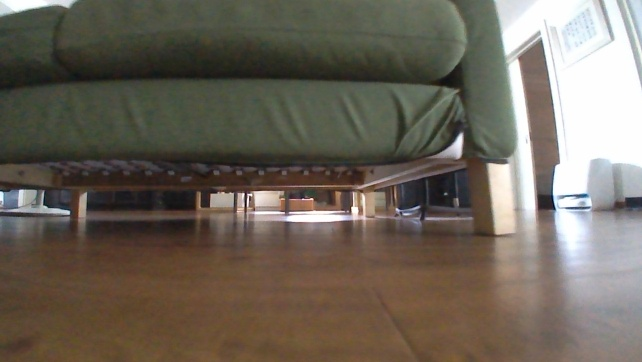chair_base: (0, 199, 72, 219)
sofa1: (0, 0, 525, 239)
